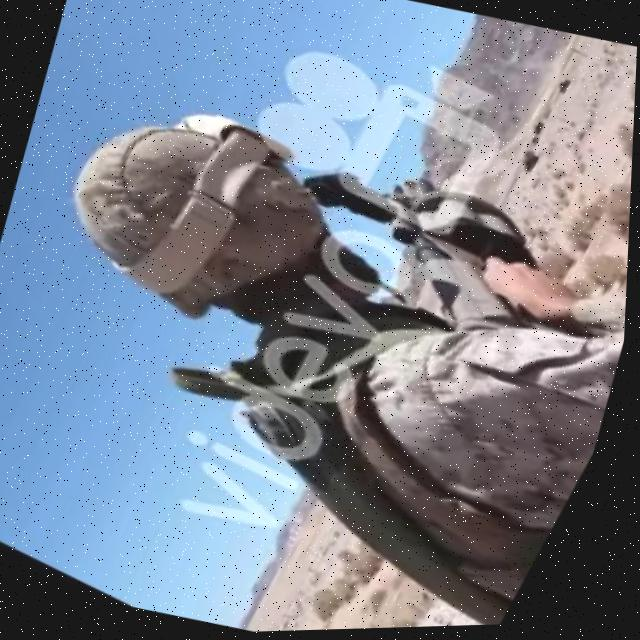rocket: (264, 116, 581, 358)
